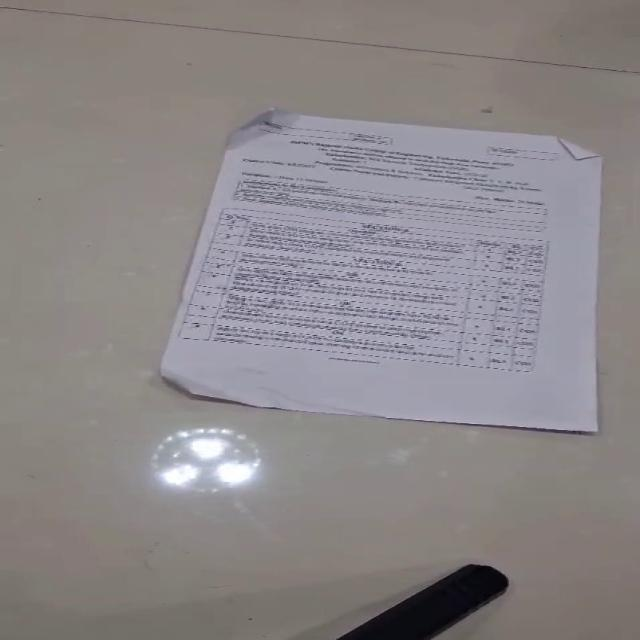paper: (158, 106, 604, 432)
